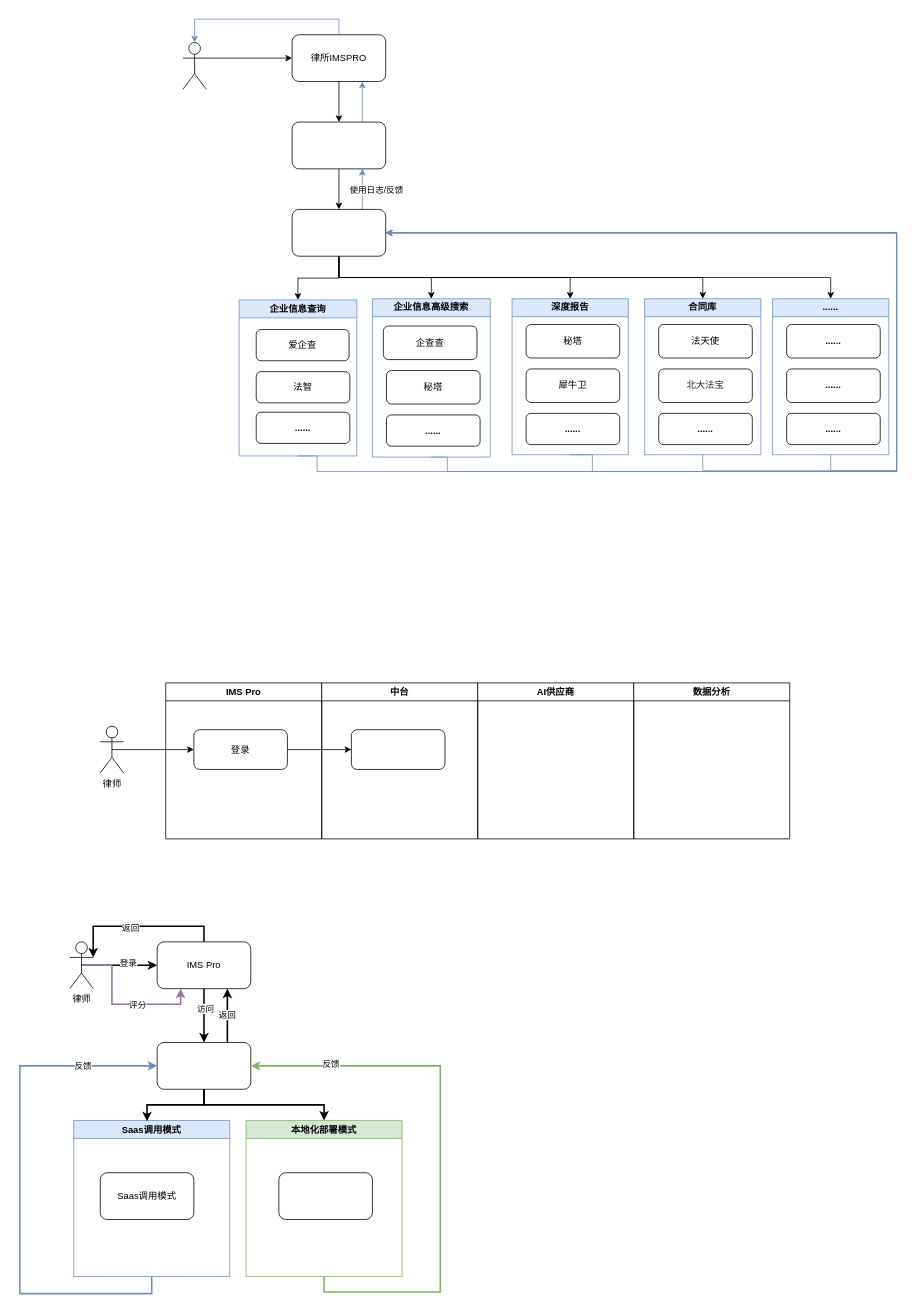
Image size: 916x1314. Some labels were removed from this diagram. Each missing label, with the centre of its shape:
AI中台: (x=203, y=1065)
律所中台 权限与数据统计: (x=338, y=145)
本地化部署: (x=325, y=1196)
泰AI 集市 统一品牌展示层: (x=338, y=232)
用户: (x=194, y=65)
访问AI集市: (x=398, y=749)
